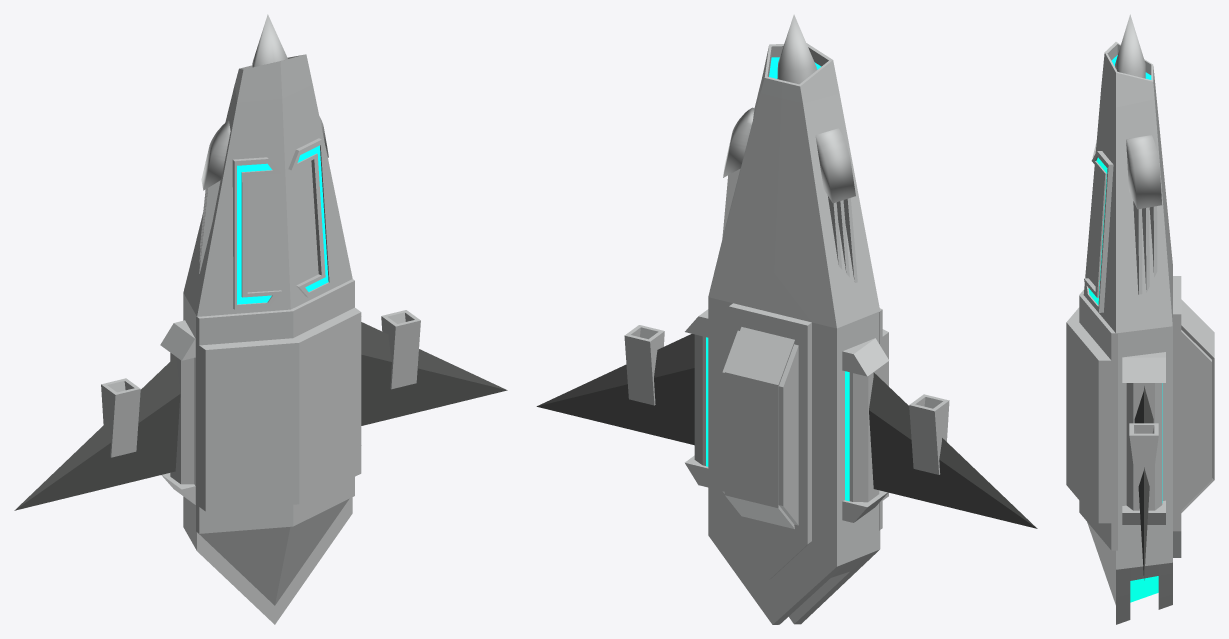
3 views of the same model, side by side, from view 1: azimuth 30°, elevation 25°; view 2: azimuth 150°, elevation 25°; view 3: azimuth 270°, elevation 25° (orthographic).
Parts seen in each view (by area): view 1: main_ship; view 2: main_ship; view 3: main_ship.
Part boxes in pixels (left/top/right/bottom): main_ship: left=14, top=14, right=507, bottom=624; main_ship: left=536, top=14, right=1037, bottom=624; main_ship: left=1066, top=14, right=1214, bottom=624.
Size of the model in its own units: 1.27 by 1.49 by 0.3266.
